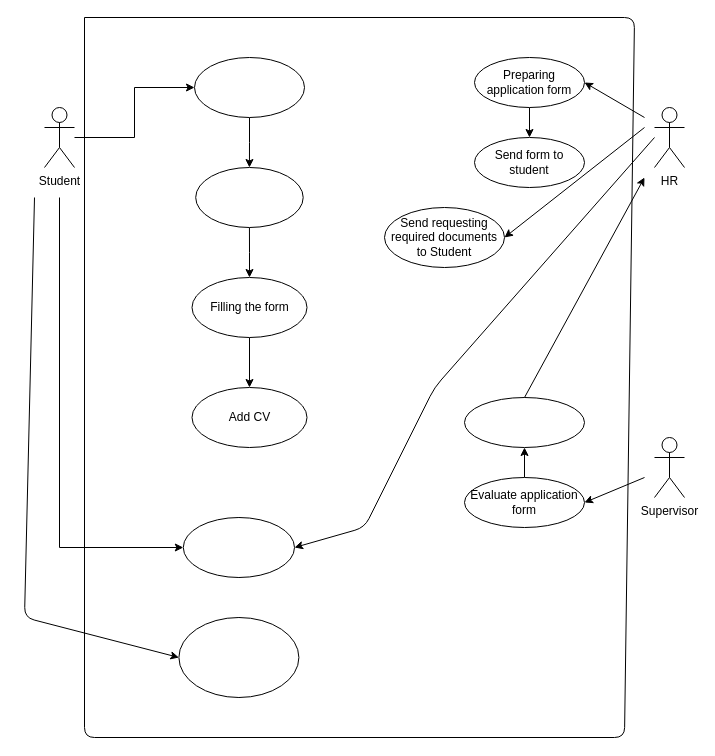
Some shapes in this 715 by 756 pixel diagram are drawn without their labels. The shapes that lost their labels are listed below. From the top down, each one's centre as x and y in pixels, then its label:
pixel 249 87: Finding a job for internship
pixel 249 197: Application
pixel 524 422: Send the result to HR
pixel 238 547: Job approval
pixel 238 657: Send neccessary documents to HR
